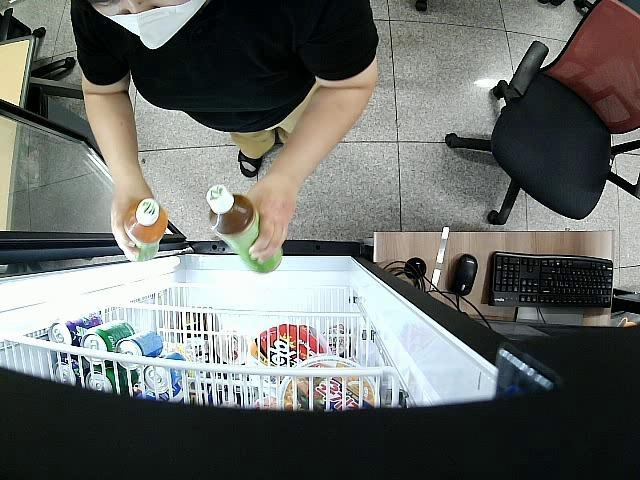19_17cha: (207, 186, 284, 274), (123, 198, 170, 264)
